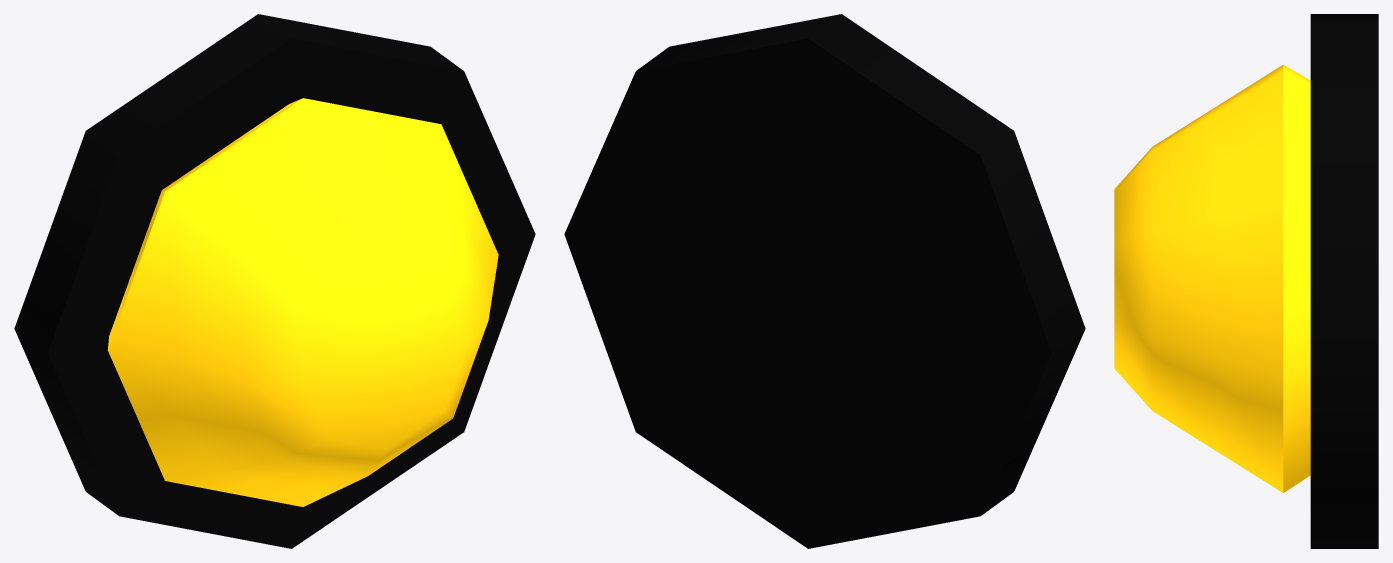
The model's file is MonButton6.fbx.
3 views of the same model, side by side, from view 1: azimuth 30°, elevation 25°; view 2: azimuth 150°, elevation 25°; view 3: azimuth 270°, elevation 25° (orthographic).
Parts seen in each view (by area): view 1: MonButton6; view 2: MonButton6; view 3: MonButton6.
Part boxes in pixels (<box>): MonButton6: <box>14,14,535,548</box>; MonButton6: <box>564,14,1085,548</box>; MonButton6: <box>1114,14,1378,548</box>.
Bounding box in the file's own units: 10.62 × 10.62 × 4.92.
